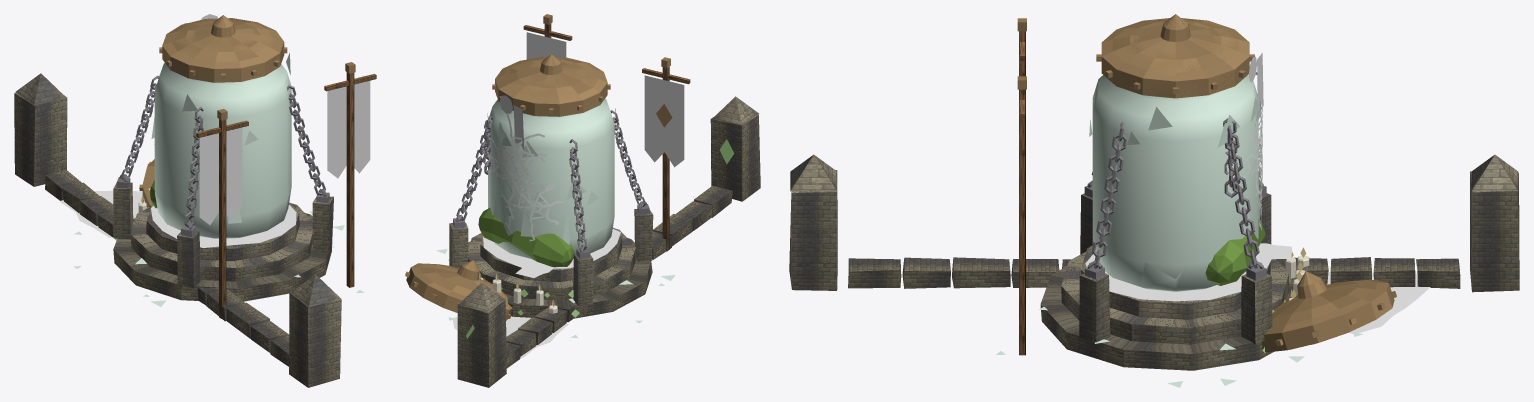
File: core.glb
3 renders of one model, left to right at view 1: azimuth 30°, elevation 25°; view 2: azimuth 150°, elevation 25°; view 3: azimuth 270°, elevation 25°, orthographic. The views are drawn at different scales.
Visible parts, largest first — view 1: core_s0, lid, core_s3; view 2: core_s0, core_s3, core_s2, lid, core_s1; view 3: core_s0, core_s3, lid, core_s2.
Part boxes in pixels (x1=…): core_s0: x1=14, y1=14, x2=376, y2=387; lid: x1=159, y1=15, x2=286, y2=82; core_s3: x1=60, y1=159, x2=363, y2=306; core_s0: x1=449, y1=14, x2=760, y2=387; core_s3: x1=405, y1=182, x2=675, y2=357; core_s2: x1=483, y1=114, x2=563, y2=324; lid: x1=493, y1=54, x2=603, y2=116; core_s1: x1=495, y1=143, x2=551, y2=211; core_s0: x1=789, y1=14, x2=1519, y2=370; core_s3: x1=996, y1=180, x2=1430, y2=387; lid: x1=1096, y1=14, x2=1254, y2=98; core_s2: x1=1223, y1=72, x2=1330, y2=284.
Size of the model in its own units: 8.27 by 8.08 by 17.16.
12 materials, 2 textured.
